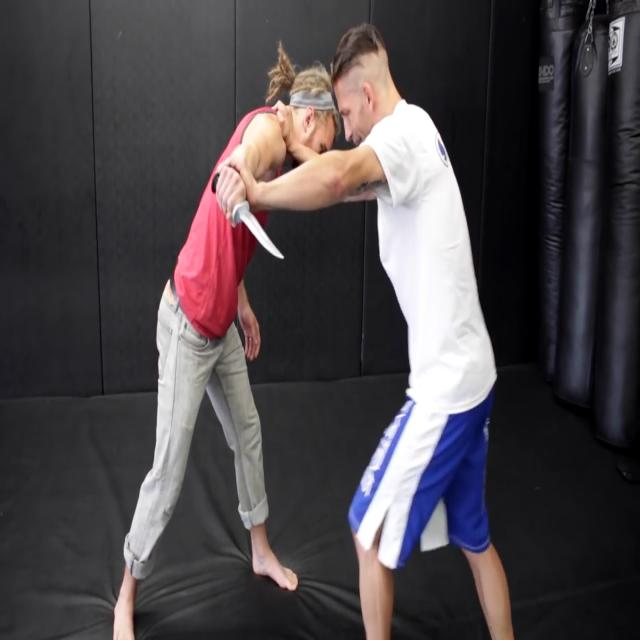knife: (232, 197, 288, 267)
